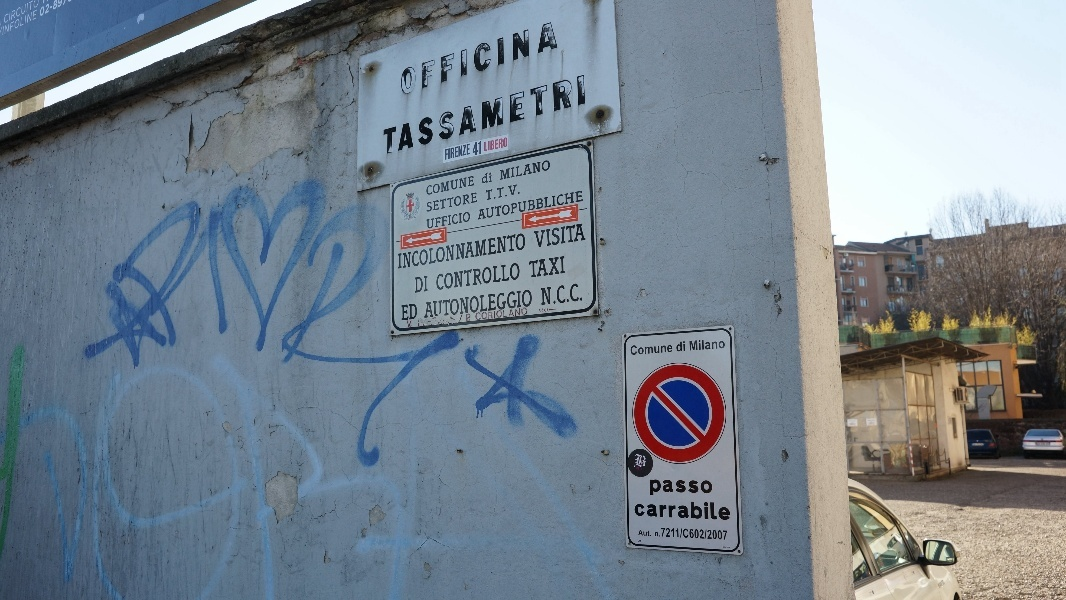text: (385, 73, 400, 159), (401, 73, 416, 159), (417, 73, 432, 159), (433, 73, 448, 159), (449, 73, 464, 159), (465, 73, 480, 159), (481, 73, 496, 159), (497, 73, 512, 159), (513, 73, 528, 159), (529, 73, 544, 159), (545, 73, 560, 159), (561, 73, 576, 159), (401, 20, 416, 102), (417, 20, 432, 102), (433, 20, 448, 102), (449, 20, 464, 102), (465, 20, 480, 102), (481, 20, 496, 102), (497, 20, 512, 102), (513, 20, 528, 102), (529, 20, 544, 102), (545, 20, 560, 102), (577, 73, 589, 159), (401, 232, 416, 271), (417, 232, 432, 271), (433, 232, 448, 271), (449, 232, 464, 271), (465, 232, 480, 271), (481, 232, 496, 271), (497, 232, 512, 271), (513, 232, 528, 271), (17, 2, 32, 37), (33, 2, 48, 37), (49, 2, 64, 37), (433, 288, 448, 321), (449, 288, 464, 321), (465, 288, 480, 321), (481, 288, 496, 321), (497, 288, 512, 321), (513, 288, 528, 321), (481, 190, 496, 223), (497, 190, 512, 223), (513, 190, 528, 223), (529, 190, 544, 223), (545, 190, 560, 223), (561, 190, 576, 223), (2, 2, 16, 37), (449, 262, 464, 292), (465, 262, 480, 292), (481, 262, 496, 292), (497, 262, 512, 292), (545, 222, 560, 250), (561, 222, 576, 250), (435, 262, 448, 292), (529, 255, 544, 280), (545, 255, 560, 280), (17, 1, 32, 26), (545, 282, 560, 306), (561, 282, 576, 306), (513, 159, 528, 183), (529, 159, 544, 183), (433, 191, 448, 214), (449, 191, 464, 214), (380, 73, 384, 159), (396, 20, 400, 102), (3, 1, 16, 26), (465, 191, 479, 214), (641, 501, 656, 522), (657, 501, 672, 522), (673, 501, 688, 522), (689, 501, 704, 522), (705, 501, 720, 522), (433, 176, 448, 197), (449, 176, 464, 197), (65, 2, 74, 37), (499, 159, 512, 183), (533, 222, 544, 250), (401, 302, 416, 322), (433, 211, 448, 230), (449, 211, 464, 230), (577, 222, 587, 250), (513, 262, 522, 292), (497, 184, 512, 202), (449, 143, 464, 161), (513, 307, 529, 323), (657, 479, 672, 496), (673, 479, 688, 496), (689, 479, 704, 496), (465, 307, 480, 323), (481, 307, 496, 323), (497, 307, 512, 323), (425, 288, 432, 321), (577, 190, 584, 223), (465, 176, 476, 197), (417, 276, 429, 295), (484, 184, 496, 202), (657, 527, 672, 541), (673, 527, 688, 541), (689, 527, 704, 541), (705, 527, 720, 541), (721, 501, 731, 522), (689, 338, 704, 352), (705, 338, 720, 352), (33, 1, 41, 26), (482, 172, 496, 186), (641, 343, 656, 356), (657, 343, 672, 356), (483, 138, 496, 153), (705, 479, 715, 496), (577, 282, 584, 306), (529, 288, 534, 321), (497, 138, 508, 153), (561, 255, 567, 280), (425, 176, 432, 197), (513, 184, 521, 202), (545, 159, 551, 183), (426, 191, 432, 214), (425, 211, 432, 230), (676, 341, 688, 352), (472, 141, 480, 157), (649, 479, 656, 496), (631, 343, 640, 356), (397, 232, 400, 271), (465, 211, 471, 230), (721, 527, 729, 541), (405, 319, 416, 329), (465, 143, 471, 161), (635, 501, 640, 522), (641, 529, 652, 538), (540, 282, 544, 306), (561, 20, 562, 102), (721, 338, 726, 352), (445, 143, 448, 161), (722, 546, 736, 549), (414, 276, 416, 295), (479, 190, 480, 223), (481, 141, 483, 157), (527, 255, 528, 280), (417, 302, 418, 322), (673, 343, 674, 356), (639, 529, 640, 538)
